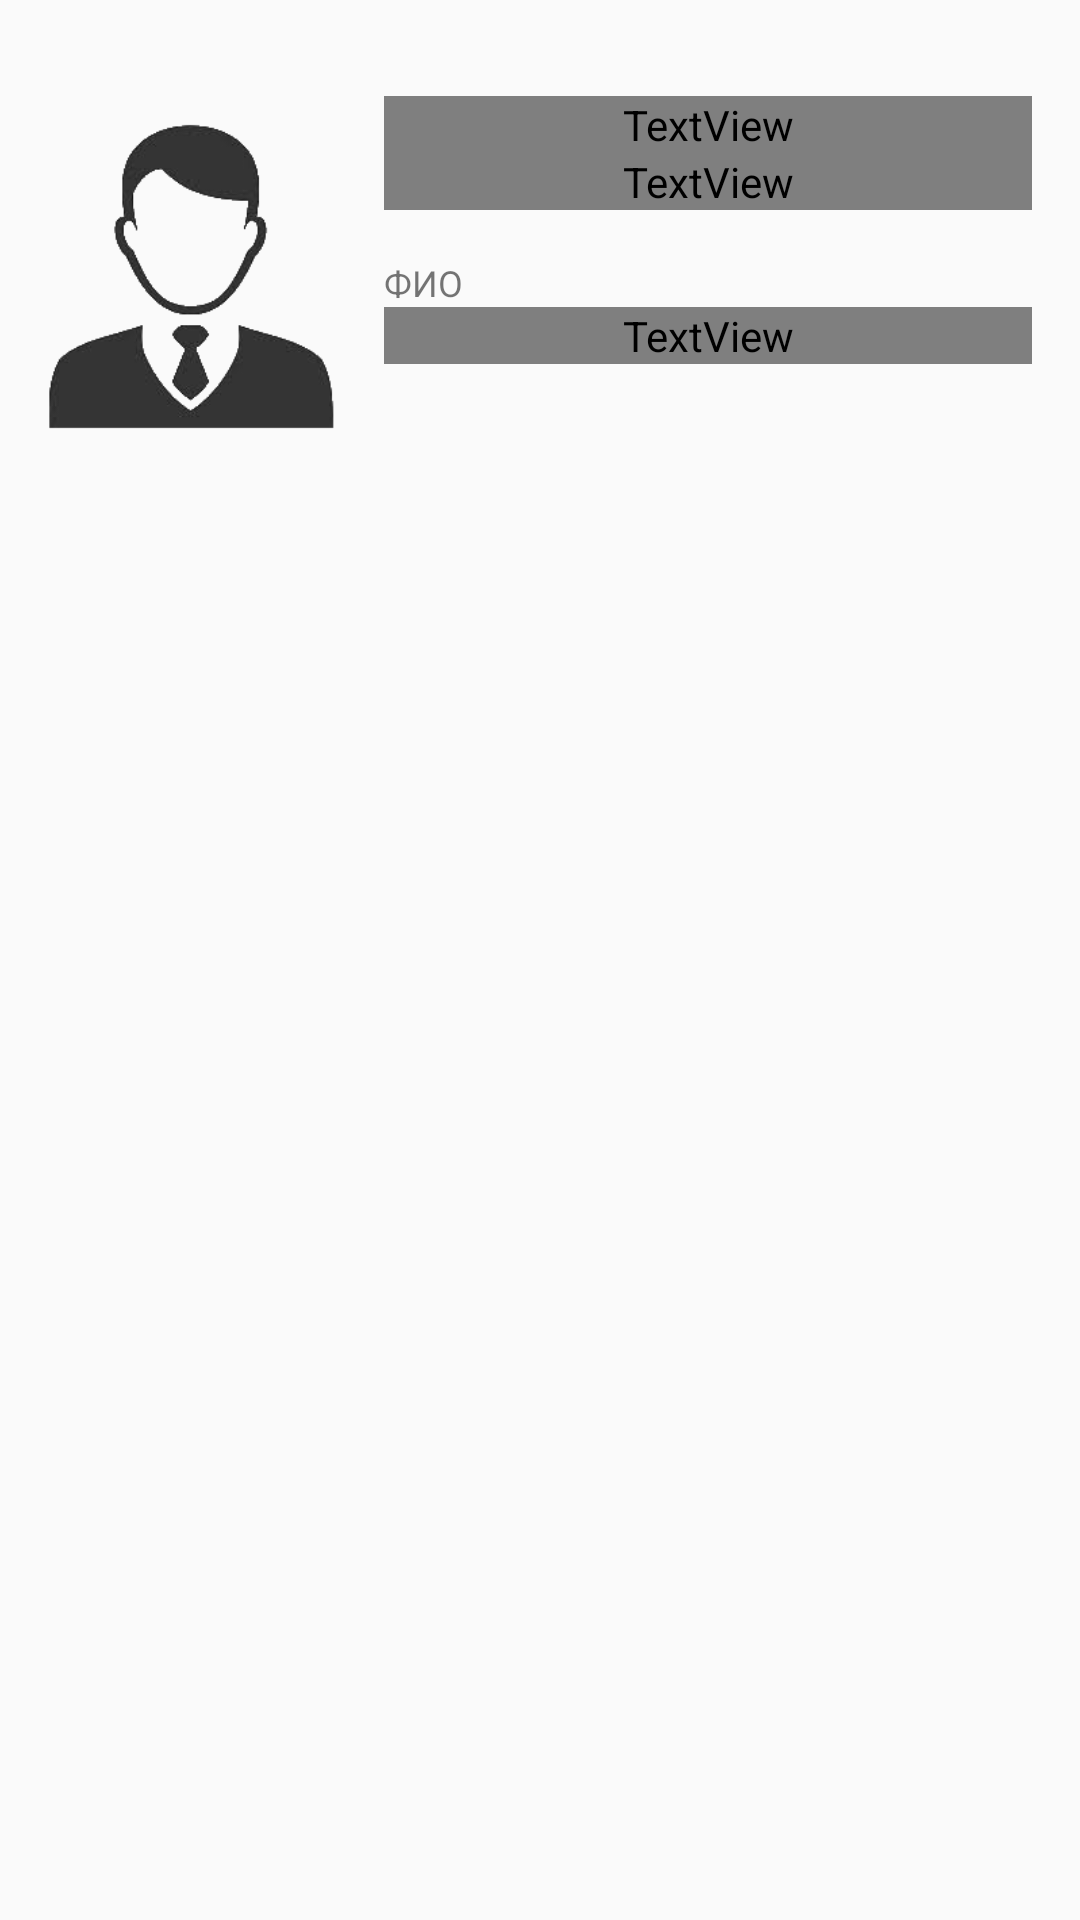

Point at icon controls on the screen. Image size 1080*1920, points as [x,y].
portreat: [191,276]
